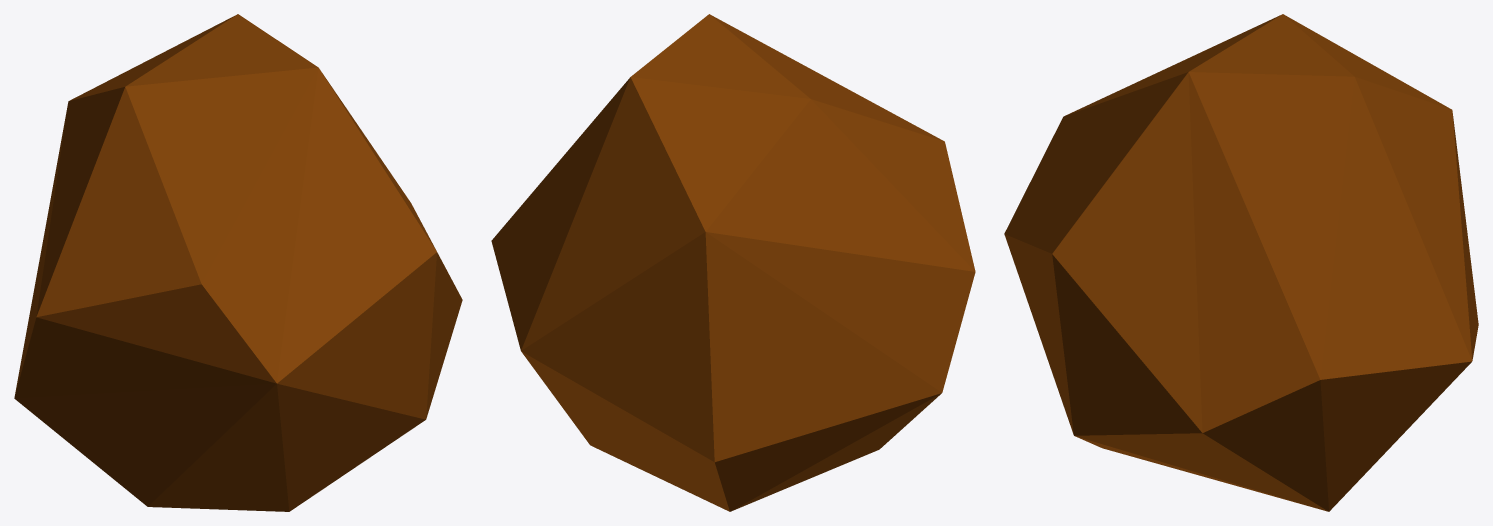
The model's file is Roca 5.fbx.
3 views of the same model, side by side, from view 1: azimuth 30°, elevation 25°; view 2: azimuth 150°, elevation 25°; view 3: azimuth 270°, elevation 25° (orthographic). The views are drawn at different scales.
Visible parts, largest first — view 1: ROCA 5; view 2: ROCA 5; view 3: ROCA 5.
Boxes of the visible parts, x1,y1,x2,y2 form: ROCA 5: [14, 14, 462, 511]; ROCA 5: [491, 14, 975, 511]; ROCA 5: [1004, 14, 1478, 511].
Bounding box in the file's own units: 202 × 183 × 185.
